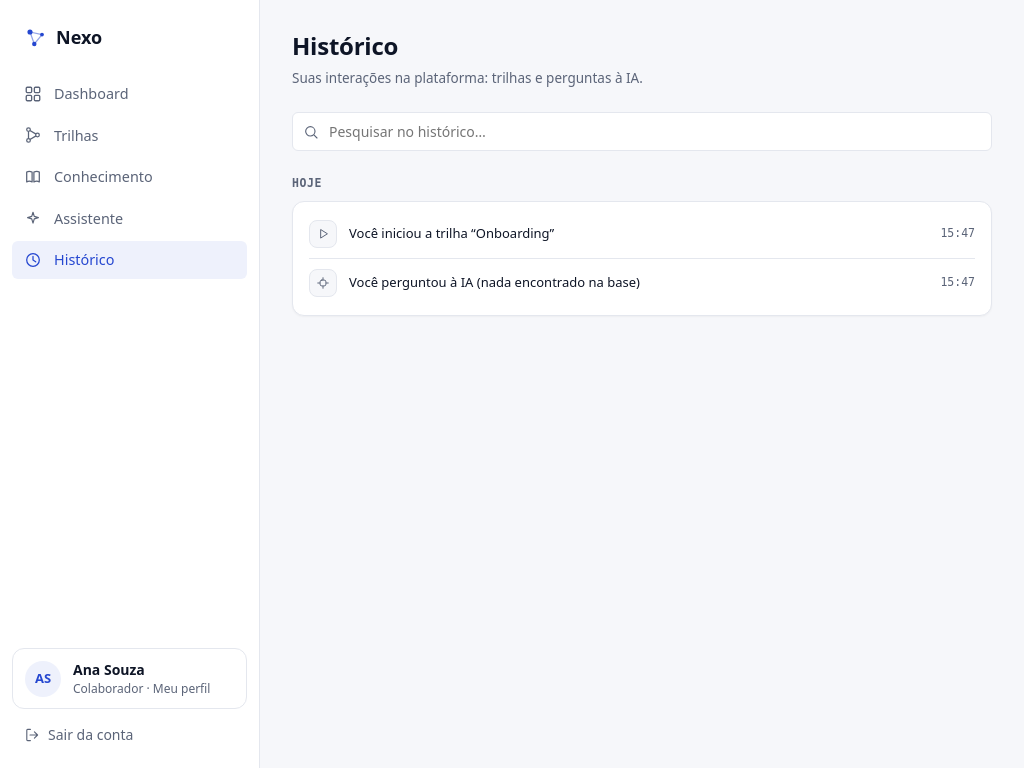
Test case: HistoricoPage › a busca filtra as interações carregadas, sem diferenciar acento
Expected: the text "Você iniciou a trilha “Onboarding”" is shown, [349,224,554,242]
Type "perguntou" into the search field labelled "Pesquisar no histórico".
click(642, 132); type("perguntou")  # box [292,112,992,151]
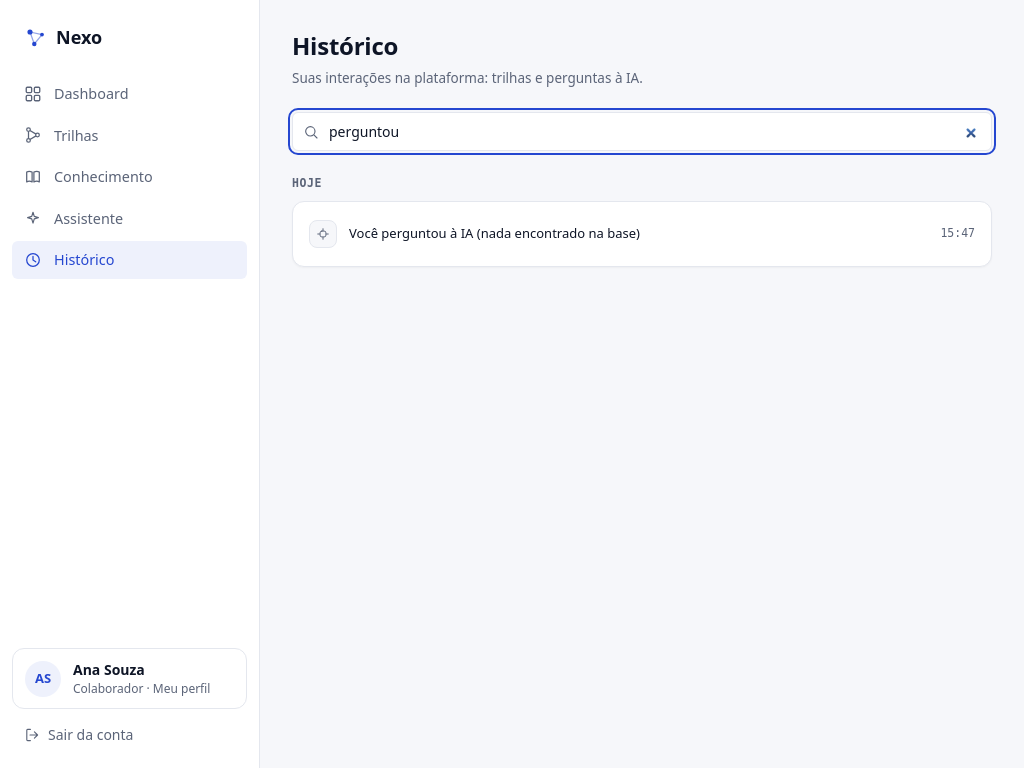
Expected: the text "Você perguntou à IA (nada encontrado na base)" is shown, [349,224,640,242]
Now the link "Você iniciou a trilha" is gone
Replace the text in the search field named "Pesquisar no histórico" with "xyz" at point(642, 132), box [292,112,992,151]
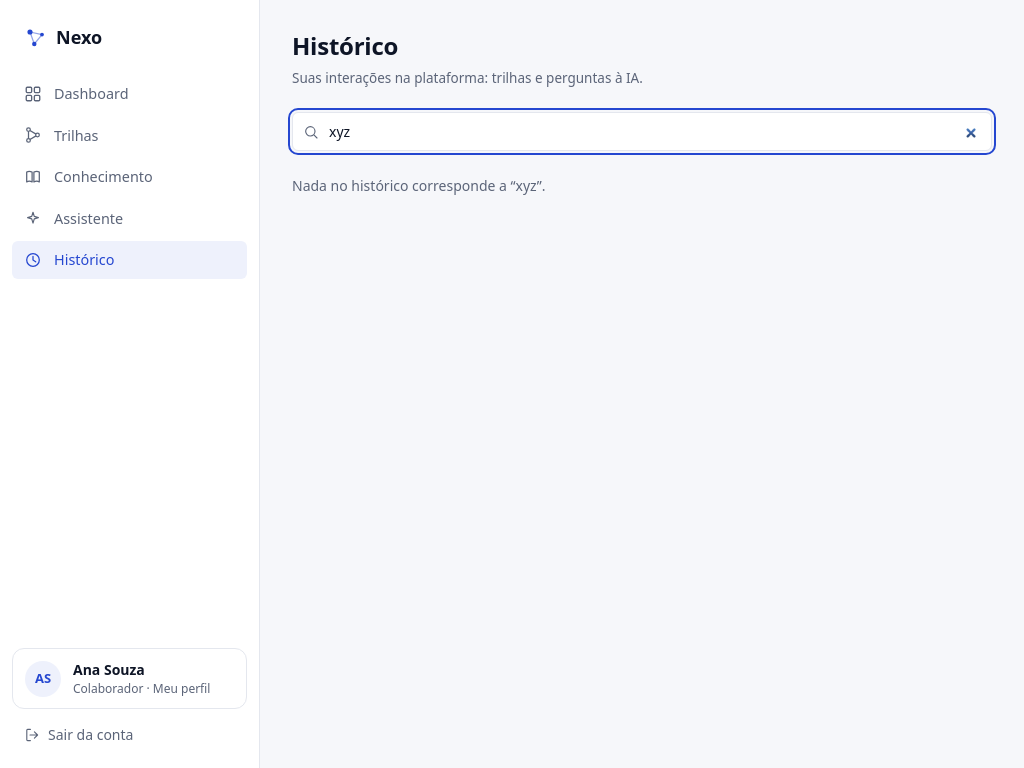
Now the text "Nada no histórico corresponde a “xyz”." is shown, box [292,176,546,195]
